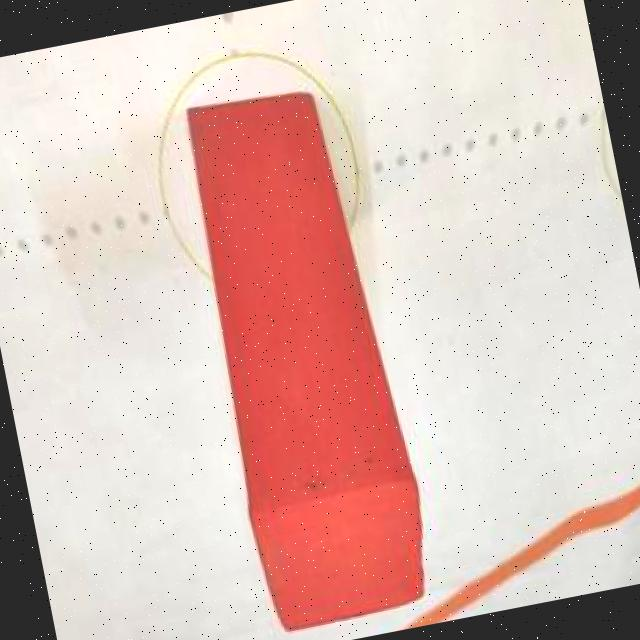redbox: (166, 76, 442, 638)
